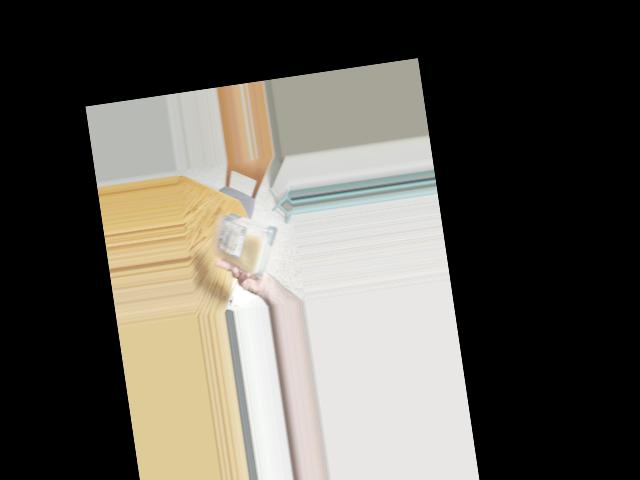cheese: (214, 202, 279, 281)
